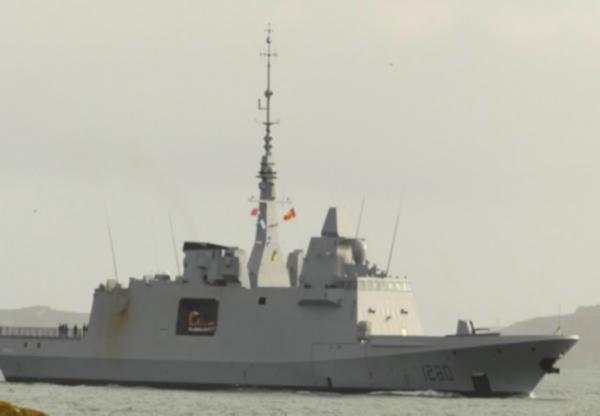DDG: (0, 1, 600, 416)
